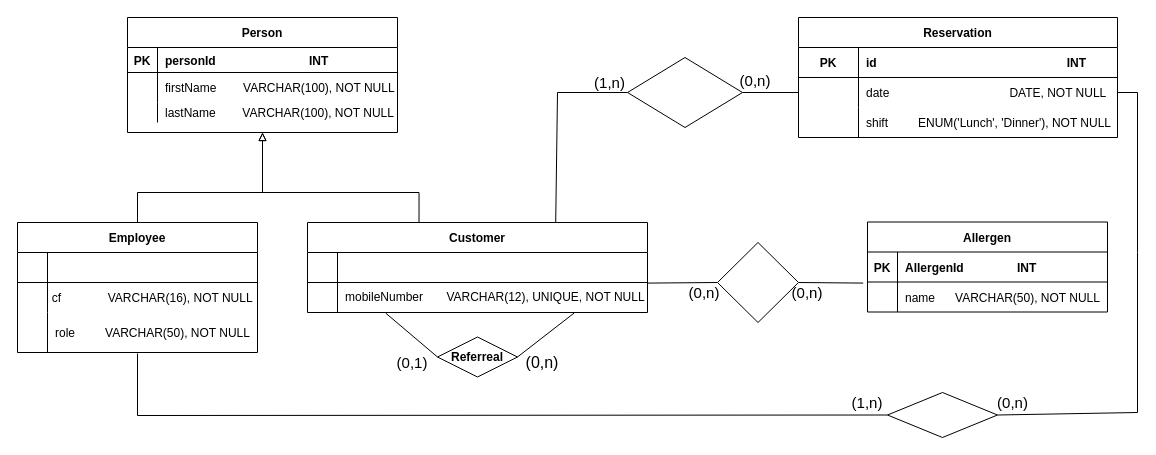
Image size: 1156x455. Some labels were removed from this diagram. The centre of each missing label's shape, as x and y in pixels:
"AllergicTo" belongs at [757,282].
"ReferredTo" belongs at [684,92].
"Serves" belongs at [942,415].
